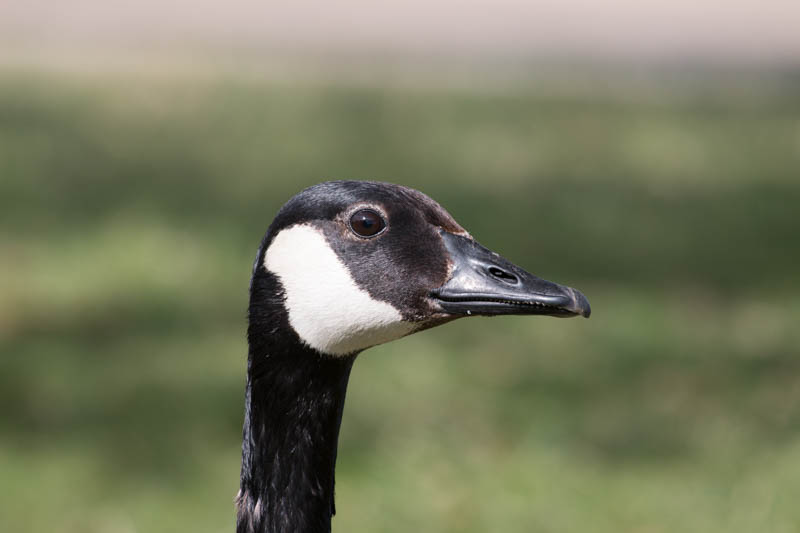goose-head: (250, 178, 593, 357)
